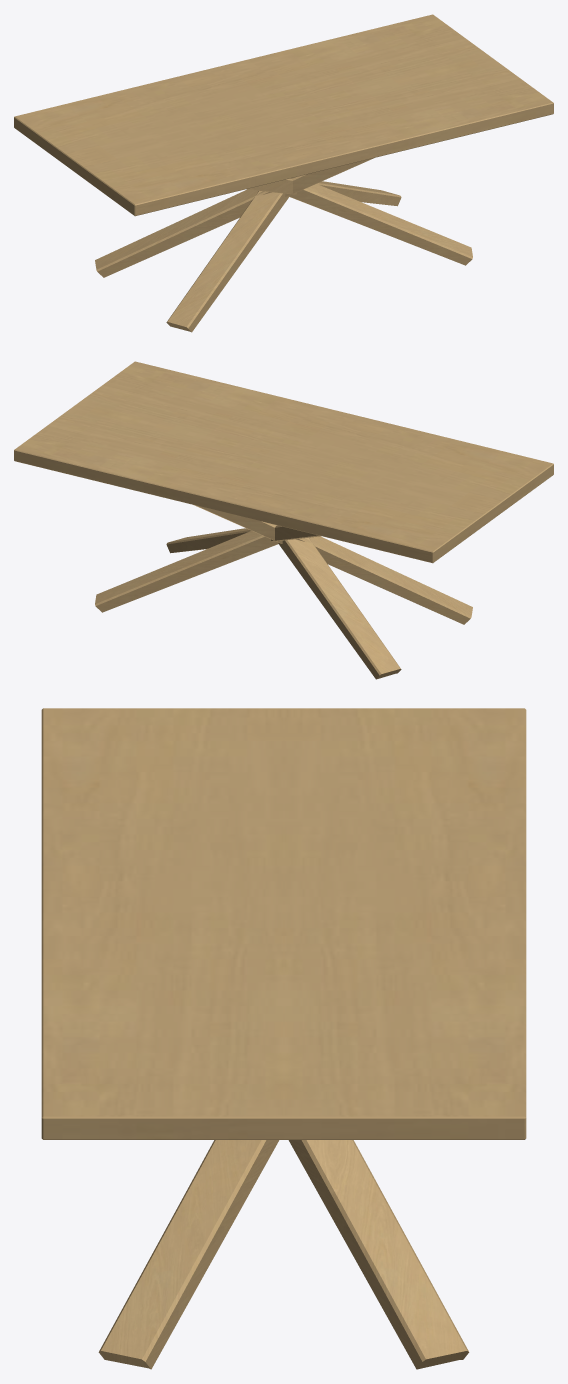
File: rectangular-beech.glb
3 views of the same model, one above another, from view 1: azimuth 30°, elevation 25°; view 2: azimuth 150°, elevation 25°; view 3: azimuth 270°, elevation 25° (orthographic). The views are drawn at different scales.
Parts seen in each view (by area): view 1: Top_target, Base_target; view 2: Top_target, Base_target; view 3: Top_target, Base_target.
Part boxes in pixels (x1=…): Top_target: x1=14, y1=14, x2=553, y2=216; Base_target: x1=95, y1=158, x2=472, y2=332; Top_target: x1=14, y1=361, x2=553, y2=563; Base_target: x1=95, y1=505, x2=472, y2=679; Top_target: x1=41, y1=708, x2=526, y2=1139; Base_target: x1=98, y1=1140, x2=469, y2=1369.
Size of the model in its own units: 2.13 by 0.762 by 1.07.
1 material, 1 textured.
